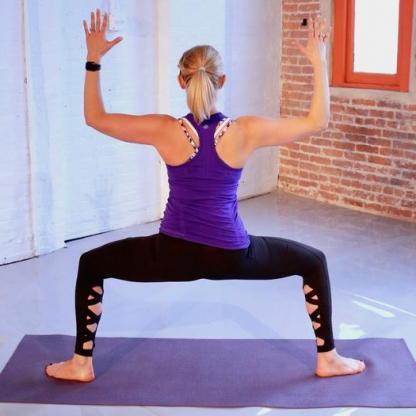godness: (44, 6, 370, 394)
